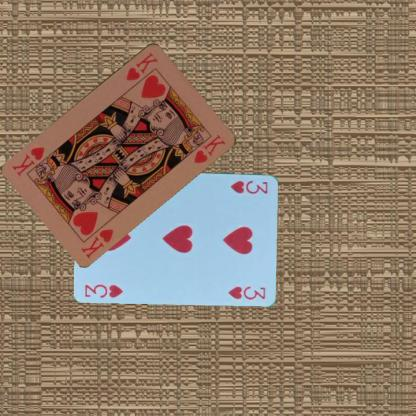3h: (82, 281, 124, 299), (228, 178, 269, 196)
Kh: (78, 226, 116, 260), (122, 49, 160, 82)
